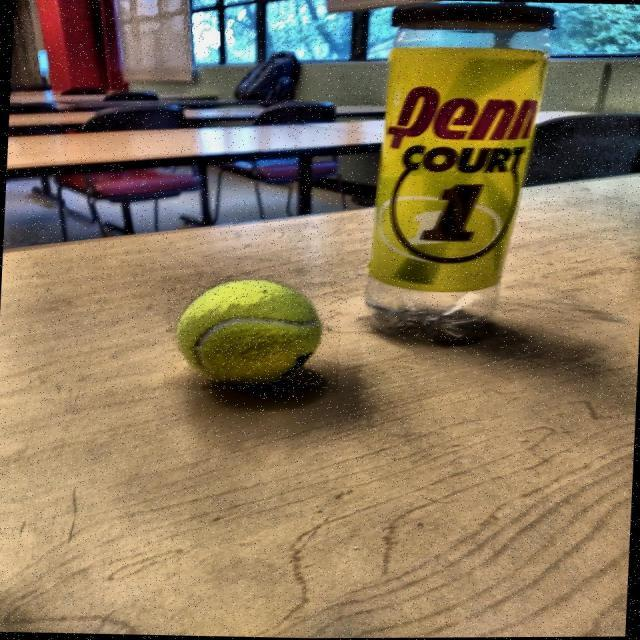tennis-ball: (164, 278, 346, 396)
